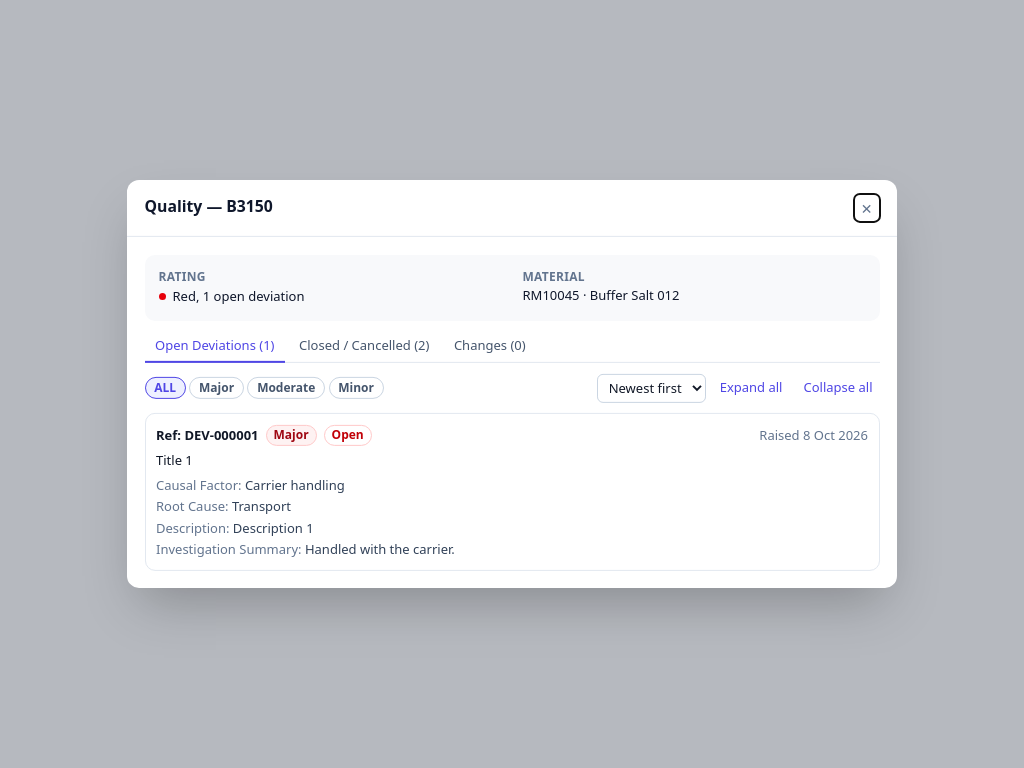
Test case: F19-AC-03: B3150 shows Red, 1 open deviation, Open Deviations (1) with a Major card, and the severity pills filter it
The image size is (1024, 768).
Expected: the element with test id "quality-rating" reads "Red, 1 open deviation", [158,287,304,306]
Expected: the tabs read "Open Deviations (1)", "Closed / Cancelled (2)", "Changes (0)", in this order, [144,331,285,363]; [288,331,440,363]; [443,331,536,363]
Click the button "Minor": (356, 388) [328,377,384,399]
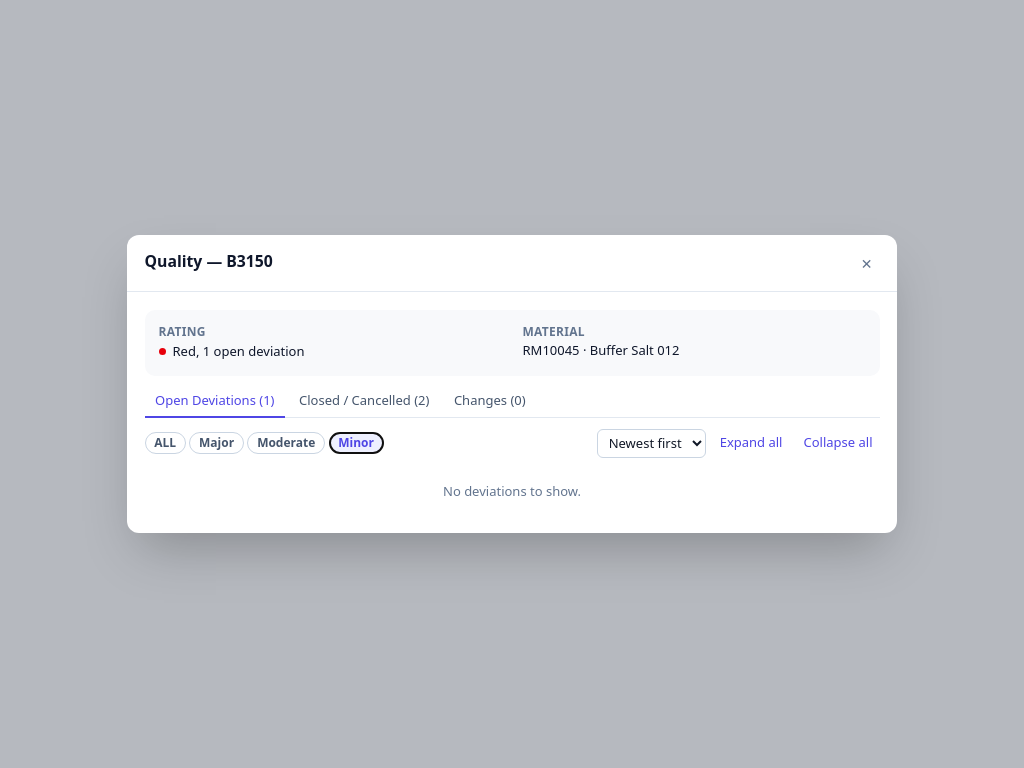
Result: the list item with test id "deviation-card" is gone
Click the button "ALL": (165, 443) [144,432,186,454]
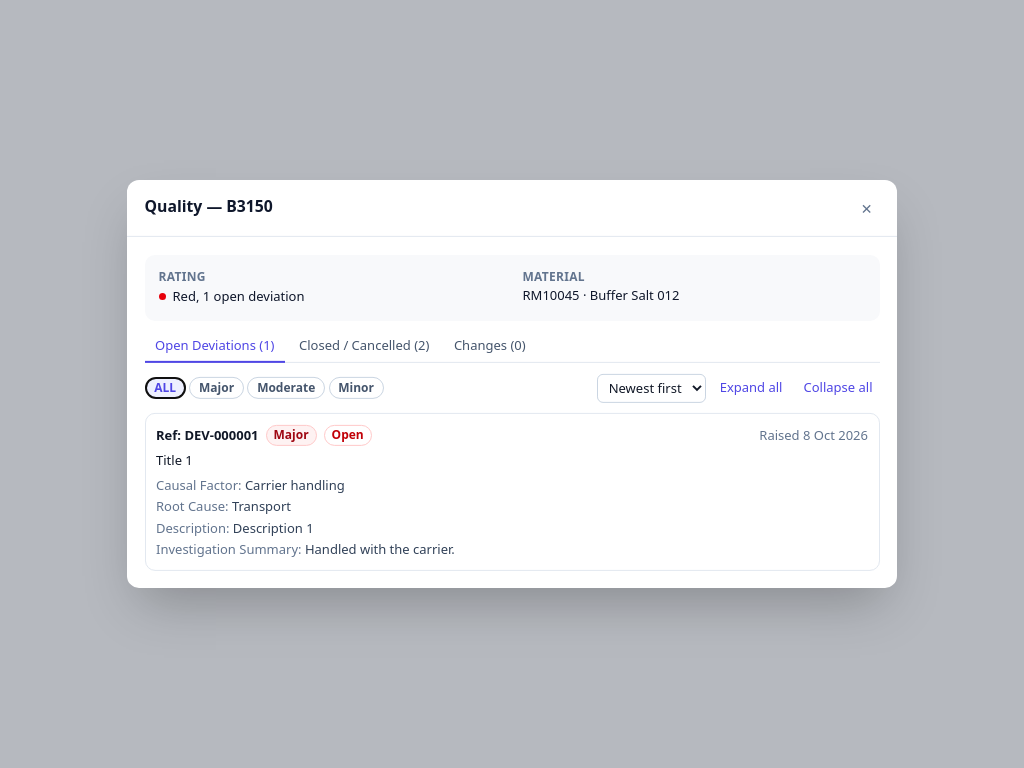
Click the tab "Closed / Cancelled (2)": (364, 347) [288,331,440,363]
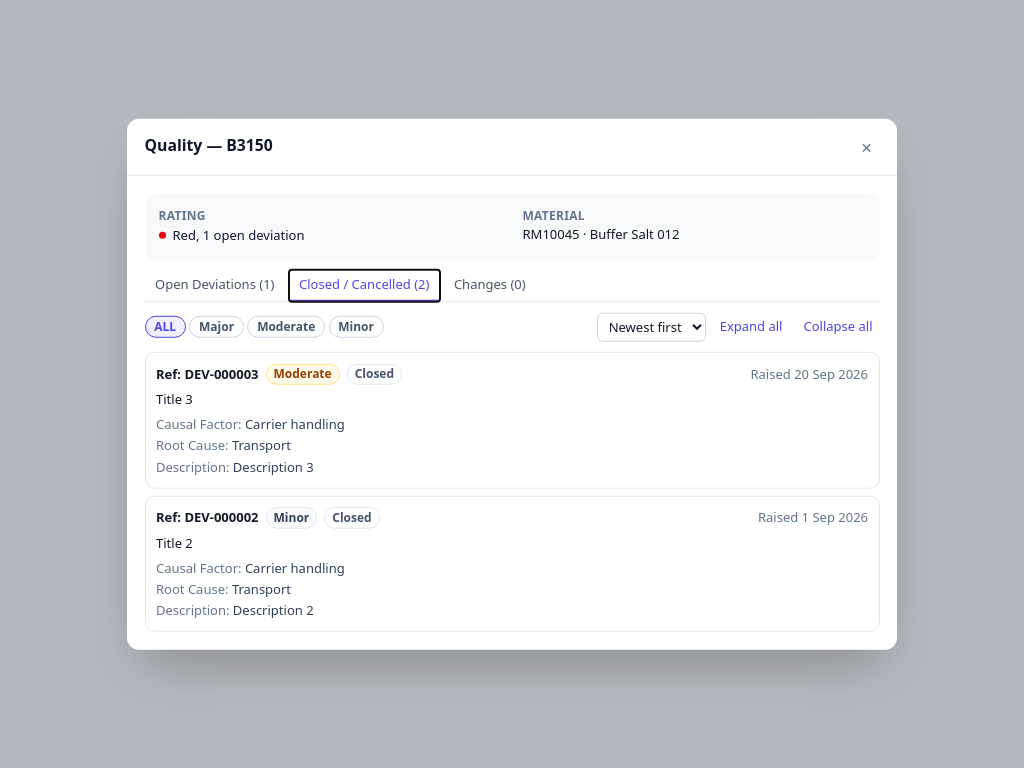
Result: the number of list items with test id "deviation-card" is 2 at [144,352,880,488]; [144,495,880,632]
Click the button "Moderate": (286, 327) [247,316,325,338]
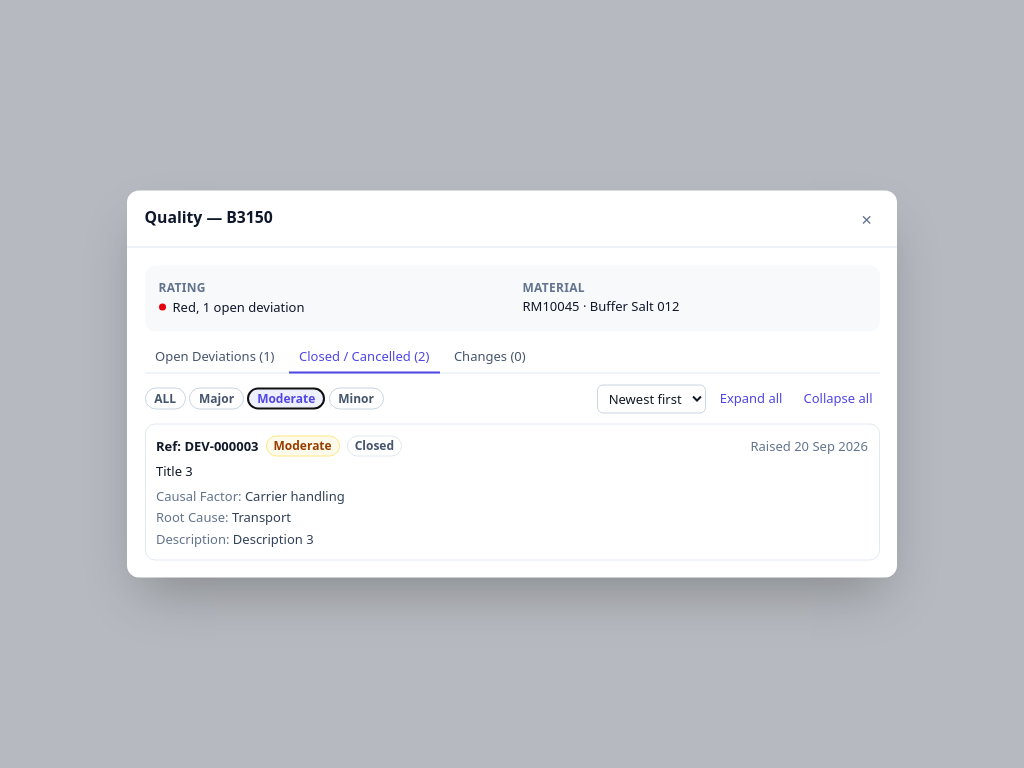
Result: the number of list items with test id "deviation-card" is 1 at [144,424,880,560]
